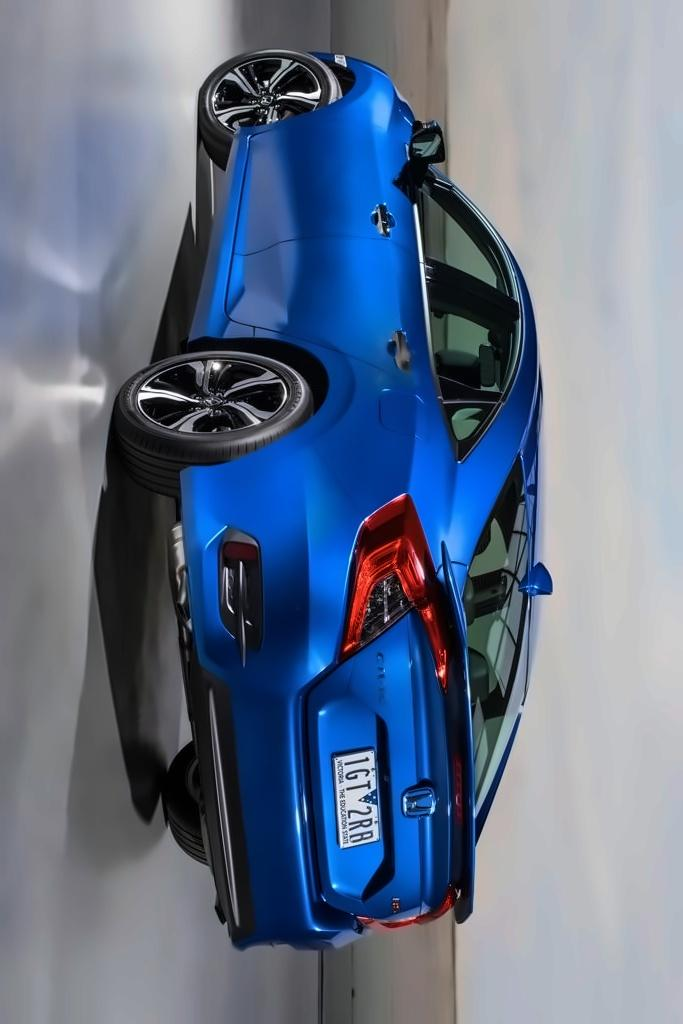Car boot: (305, 602, 509, 932)
Fender - -F-L-: (240, 40, 436, 132)
Fender - -R-L-: (189, 319, 462, 516)
Passenger-s door - -F-L-: (205, 109, 546, 292)
Passenger-s door - -R-R-: (177, 229, 556, 411)
Rear bumper: (155, 454, 371, 971)
Rear light - -L-: (342, 495, 447, 689)
Side bumper - -L-: (180, 115, 276, 359)
Side mirror - -L-: (405, 119, 448, 203)
